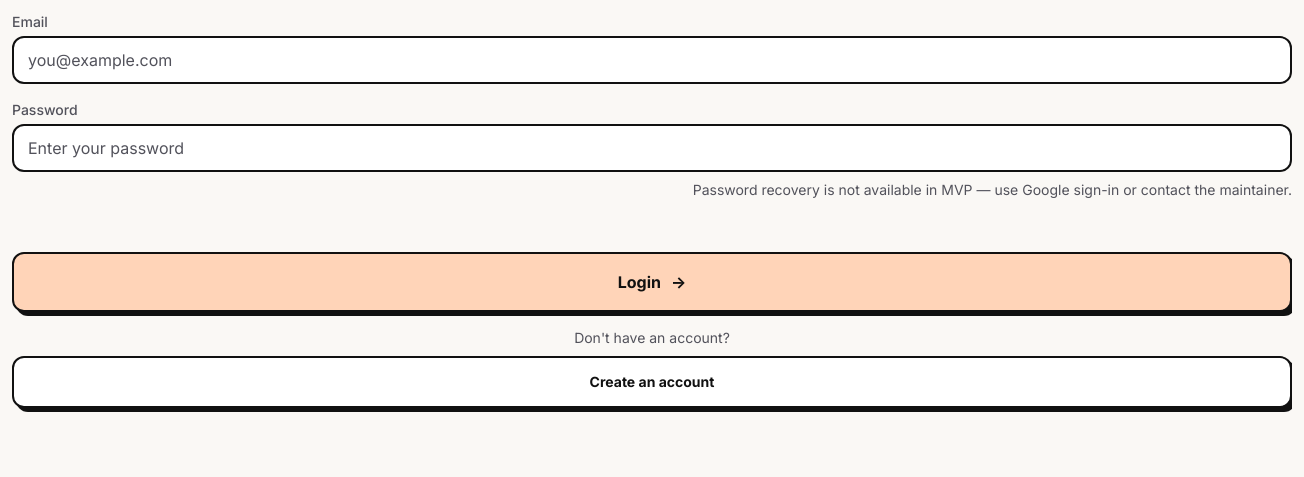
Test: LoginForm › should clear a field error when the user edits that field
The width and height of the screenshot is (1304, 477).
Click the button "Login →". click: coordinates (652, 282)
box: [12,252,1292,312]
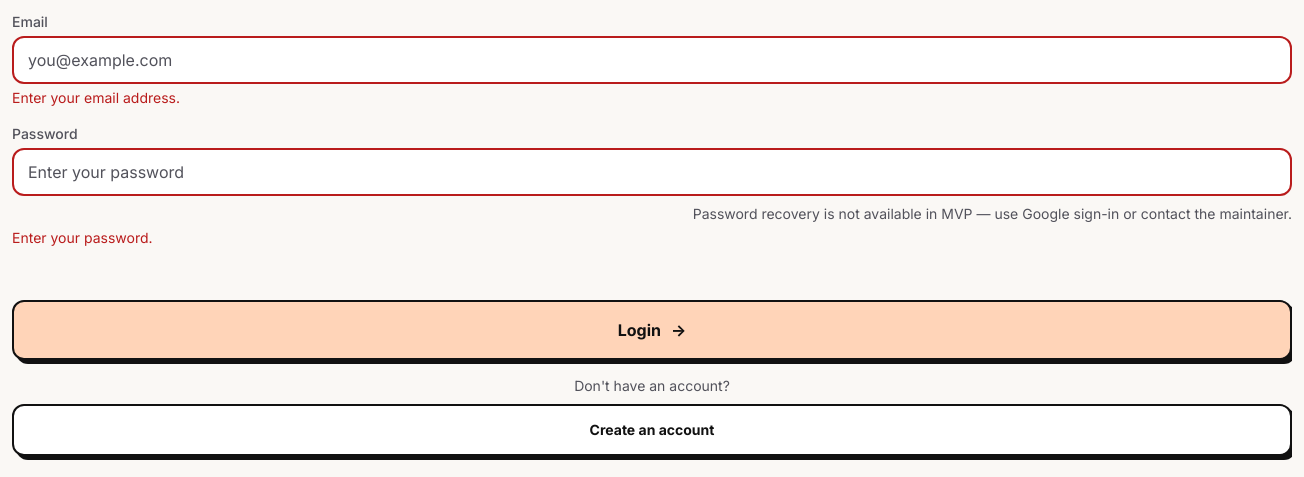
Check: the text "Enter your email address." is shown, box [12,89,180,106]
Type "test@example.com" into the field labelled "Email". click: coordinates (652, 60)
box: [12,36,1292,84]
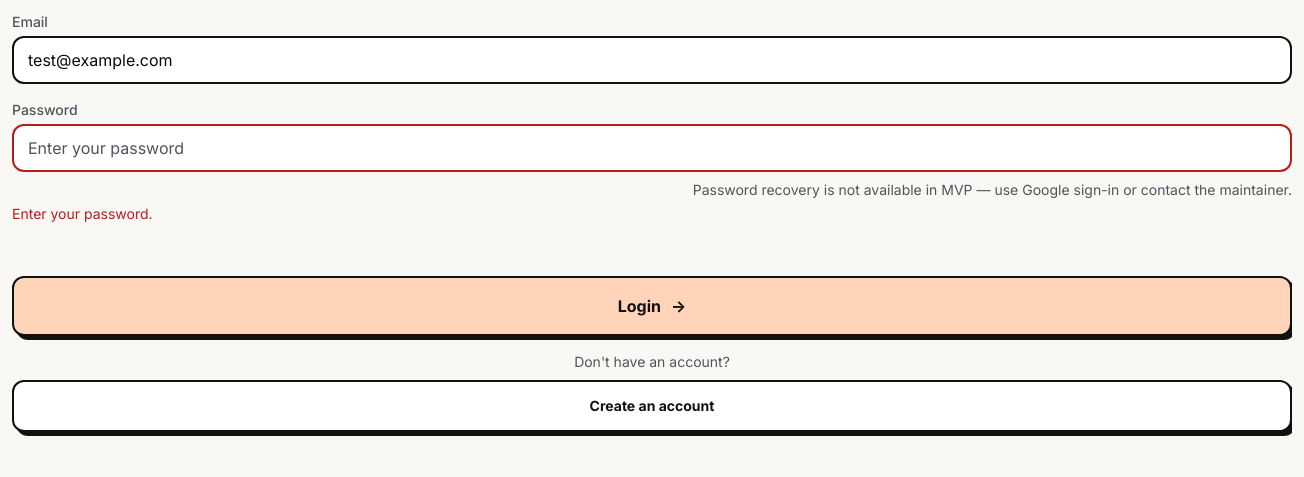
Check: the text "Enter your email address." is gone
